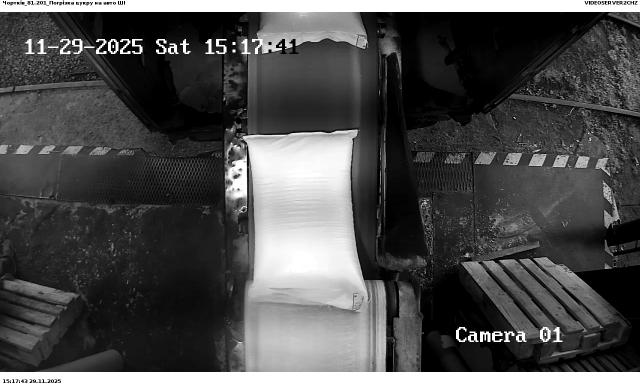bag: (241, 129, 373, 313)
